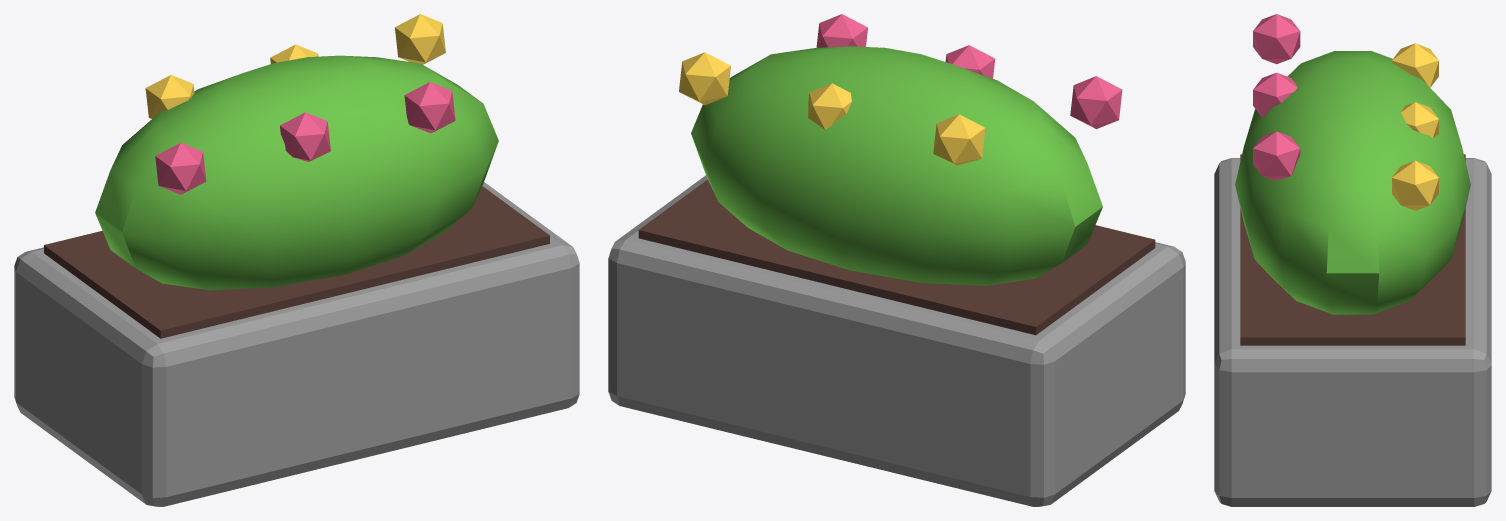
File: foot_planter.glb
3 renders of one model, left to right at view 1: azimuth 30°, elevation 25°; view 2: azimuth 150°, elevation 25°; view 3: azimuth 270°, elevation 25°, orthographic. The views are drawn at different scales.
Parts seen in each view (by area): view 1: FootPlanter_body; view 2: FootPlanter_body; view 3: FootPlanter_body.
Boxes of the visible parts, left/top/right/bottom form: FootPlanter_body: left=14, top=14, right=579, bottom=506; FootPlanter_body: left=608, top=14, right=1185, bottom=506; FootPlanter_body: left=1214, top=14, right=1491, bottom=506.
Bounding box in the file's own units: 1.4 × 1.04 × 0.8.
